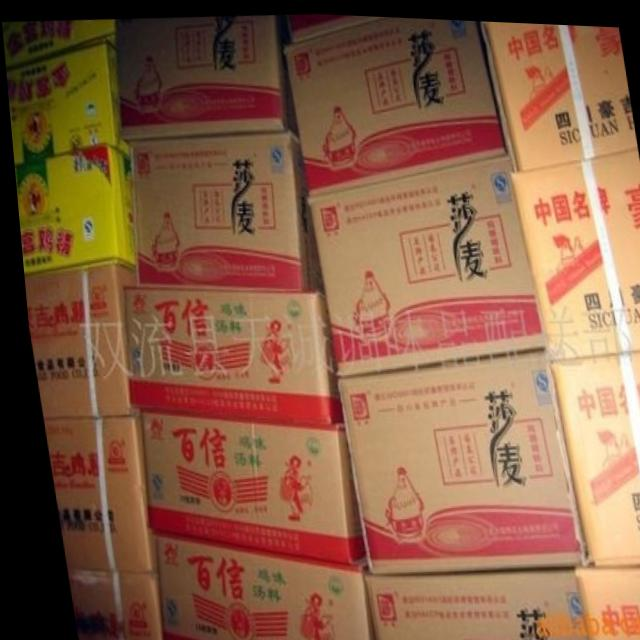box: (331, 346, 575, 571), (306, 153, 541, 374), (283, 13, 502, 194), (135, 410, 356, 562), (128, 132, 319, 292), (119, 288, 335, 419), (509, 142, 640, 354), (144, 531, 363, 640), (479, 17, 634, 165), (117, 12, 296, 136), (542, 346, 640, 559), (19, 263, 133, 417), (353, 564, 577, 640), (37, 417, 147, 569), (12, 143, 131, 273), (5, 42, 126, 165), (57, 570, 151, 640), (564, 558, 640, 640), (2, 18, 113, 66), (289, 11, 380, 39)
